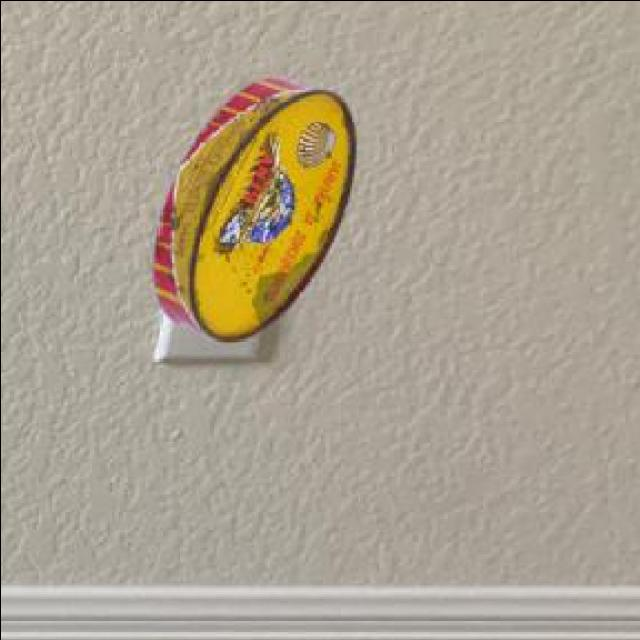logam: (157, 74, 359, 337)
